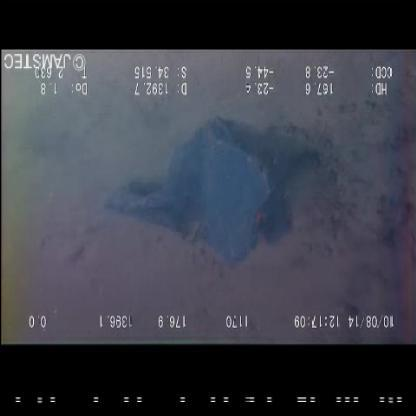Rác: (94, 108, 300, 272)
